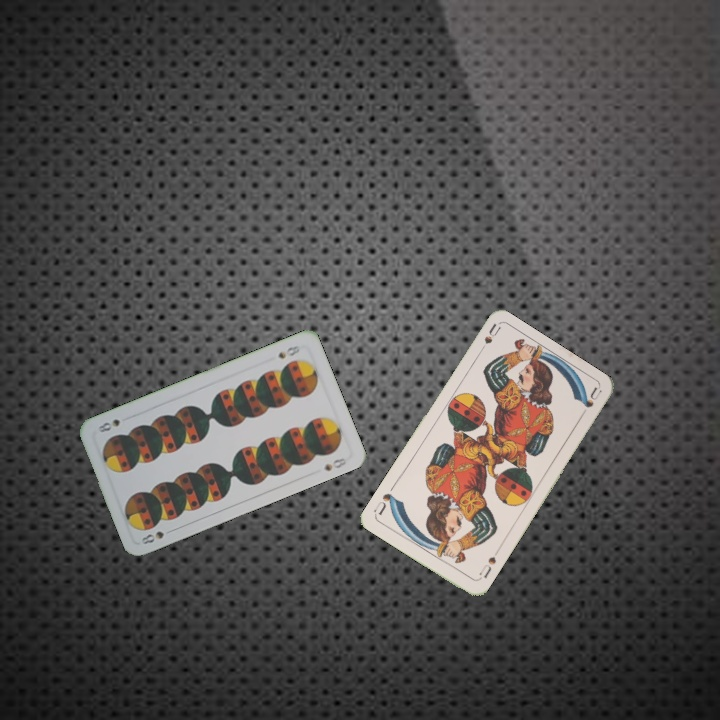S8: (137, 525, 176, 547), (273, 341, 303, 361)
SU: (474, 320, 503, 358), (474, 546, 501, 583)
